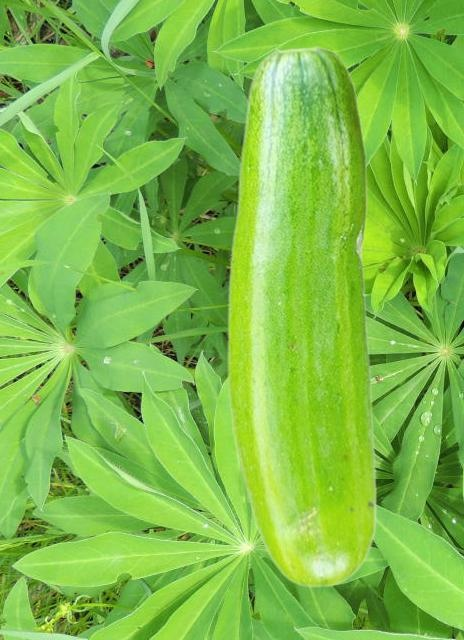cucumber: (227, 45, 376, 587)
